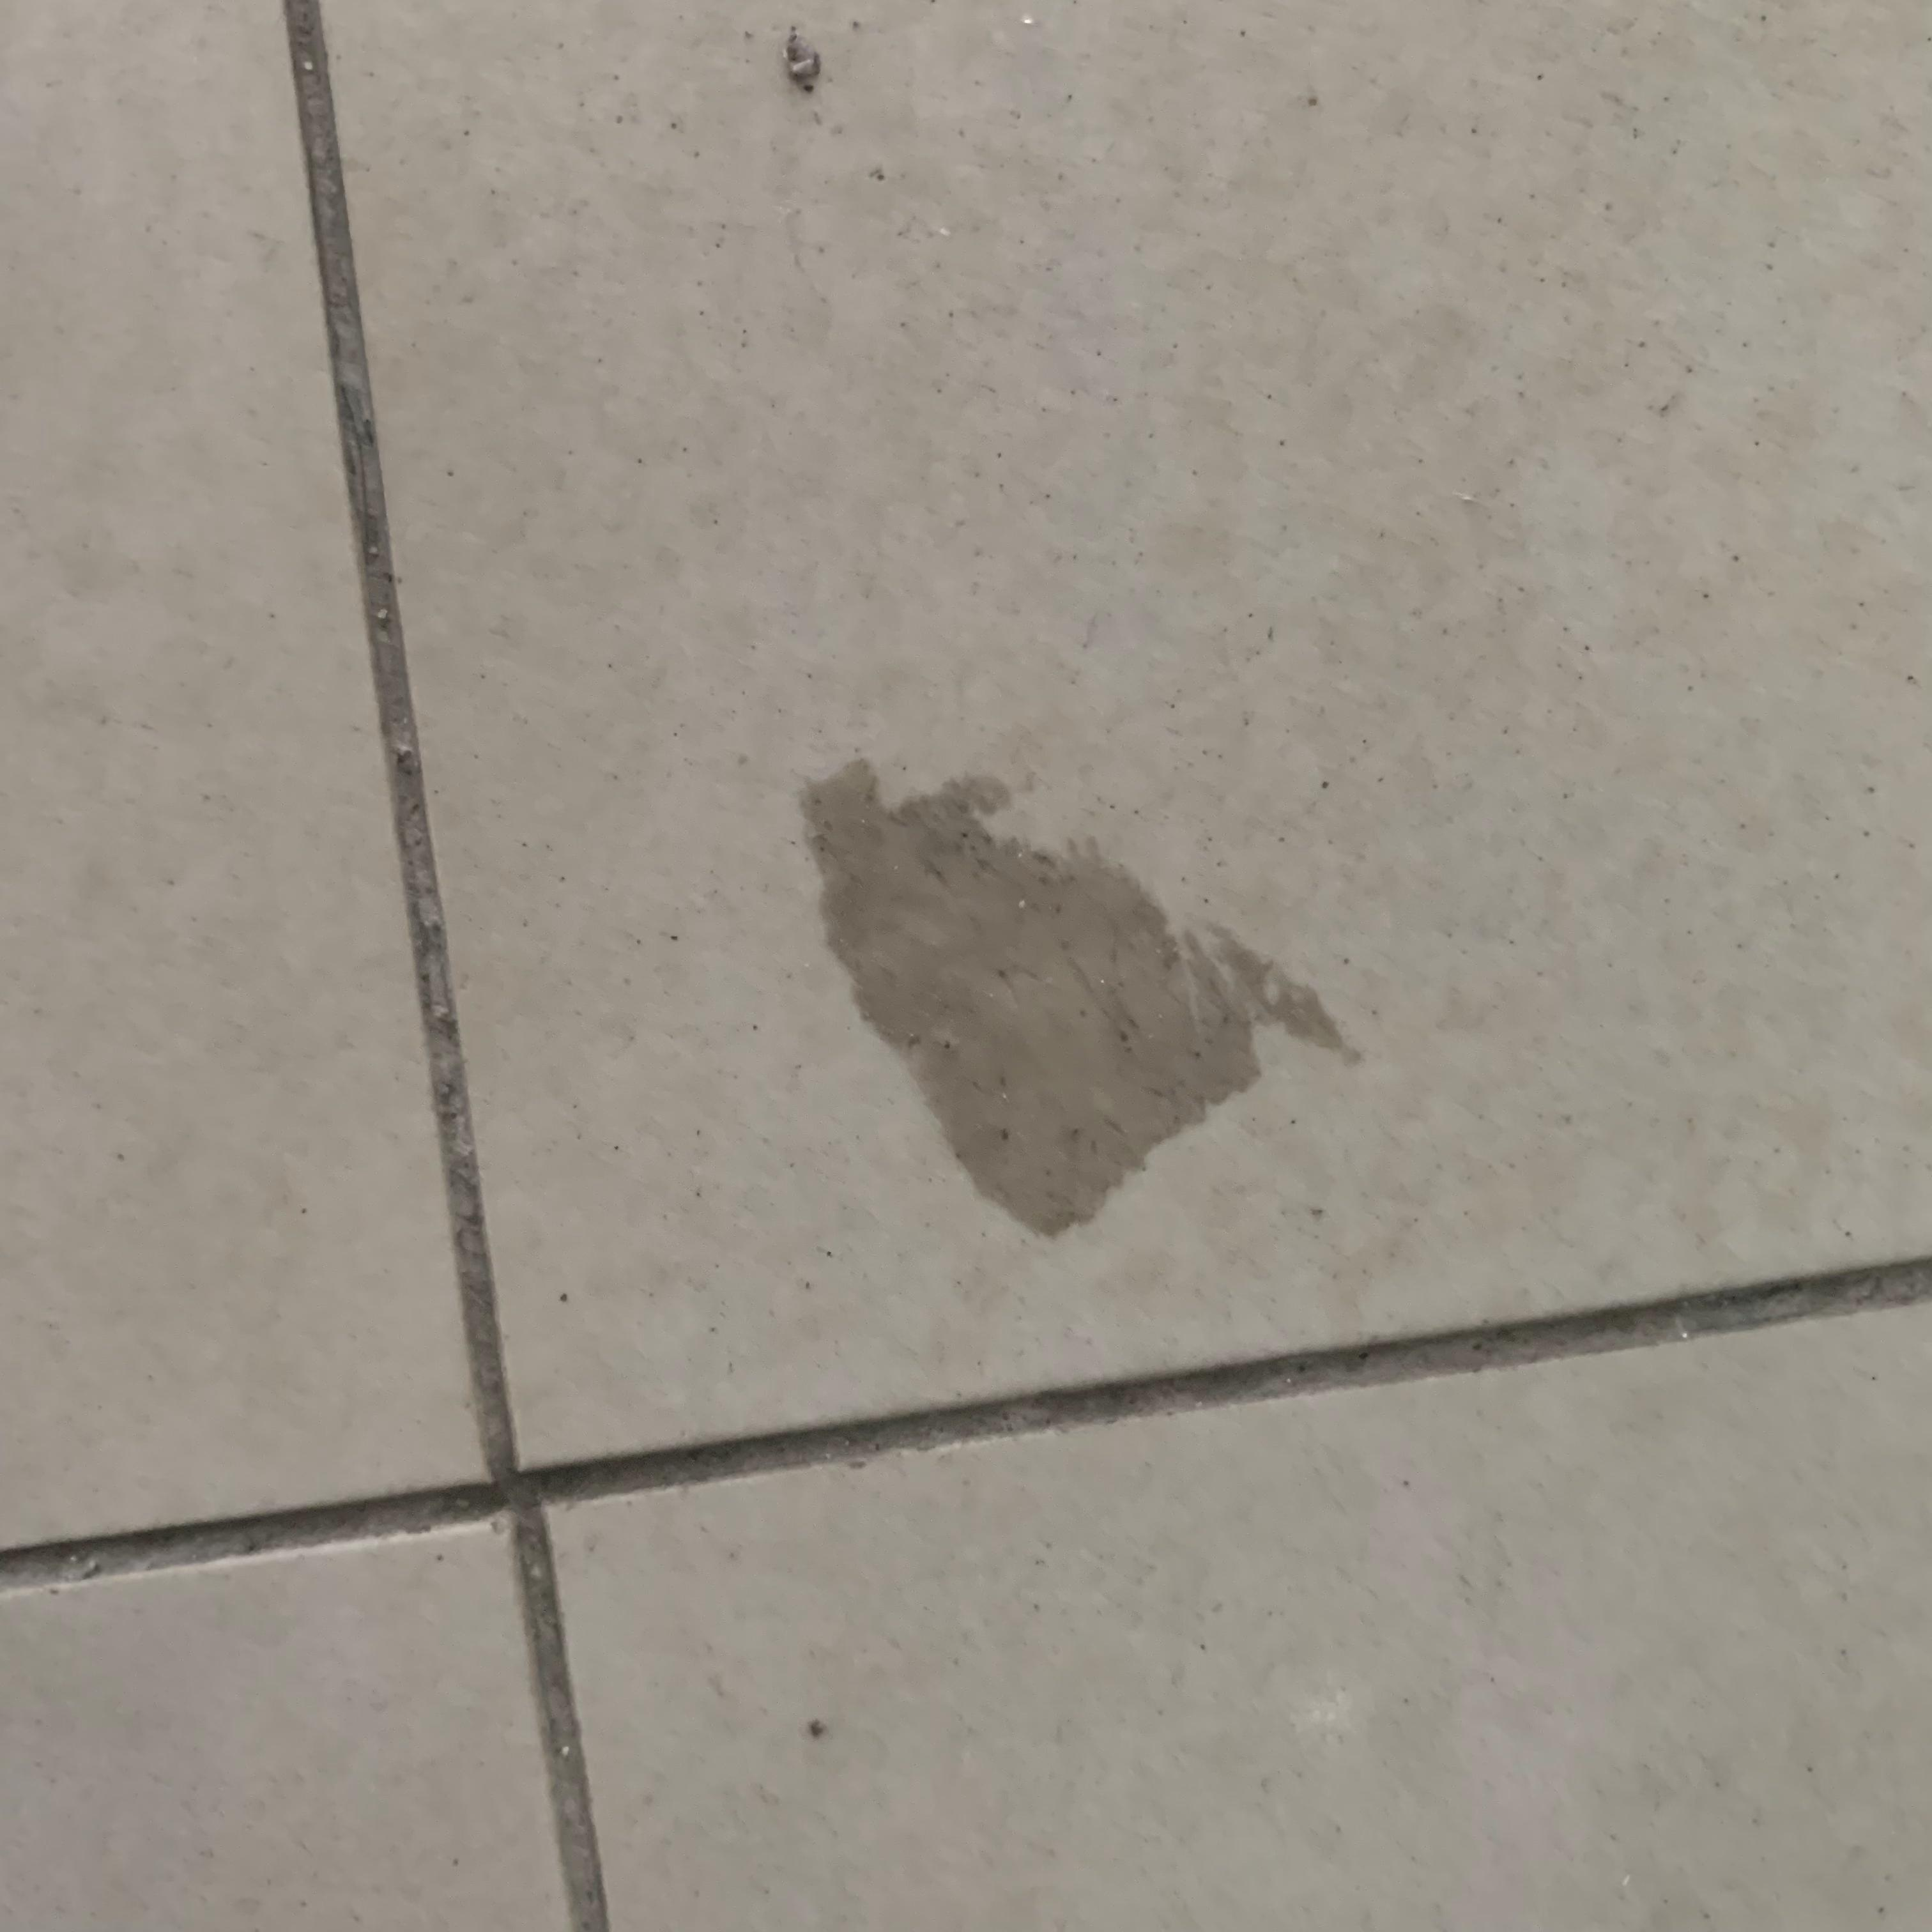grey spot: (793, 755, 1366, 1242)
